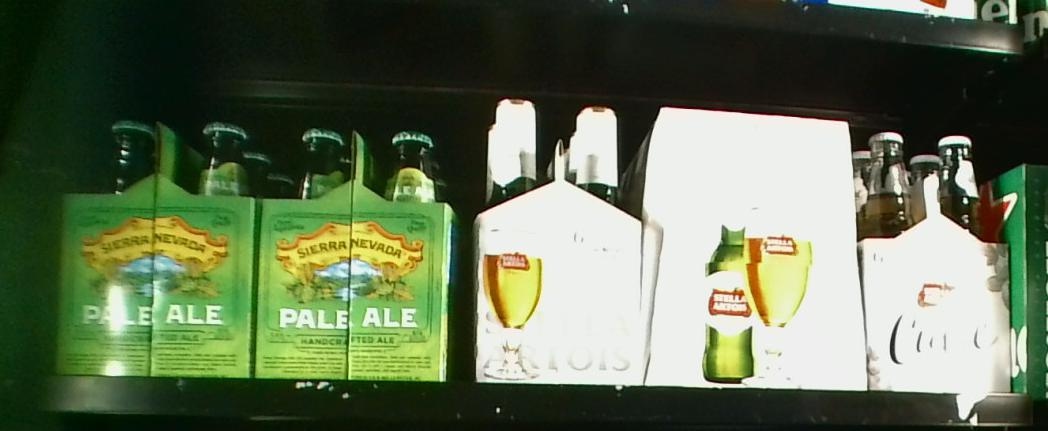bottle: (649, 104, 862, 386), (55, 121, 254, 377), (256, 125, 452, 381), (472, 98, 647, 379), (859, 128, 1011, 392)
